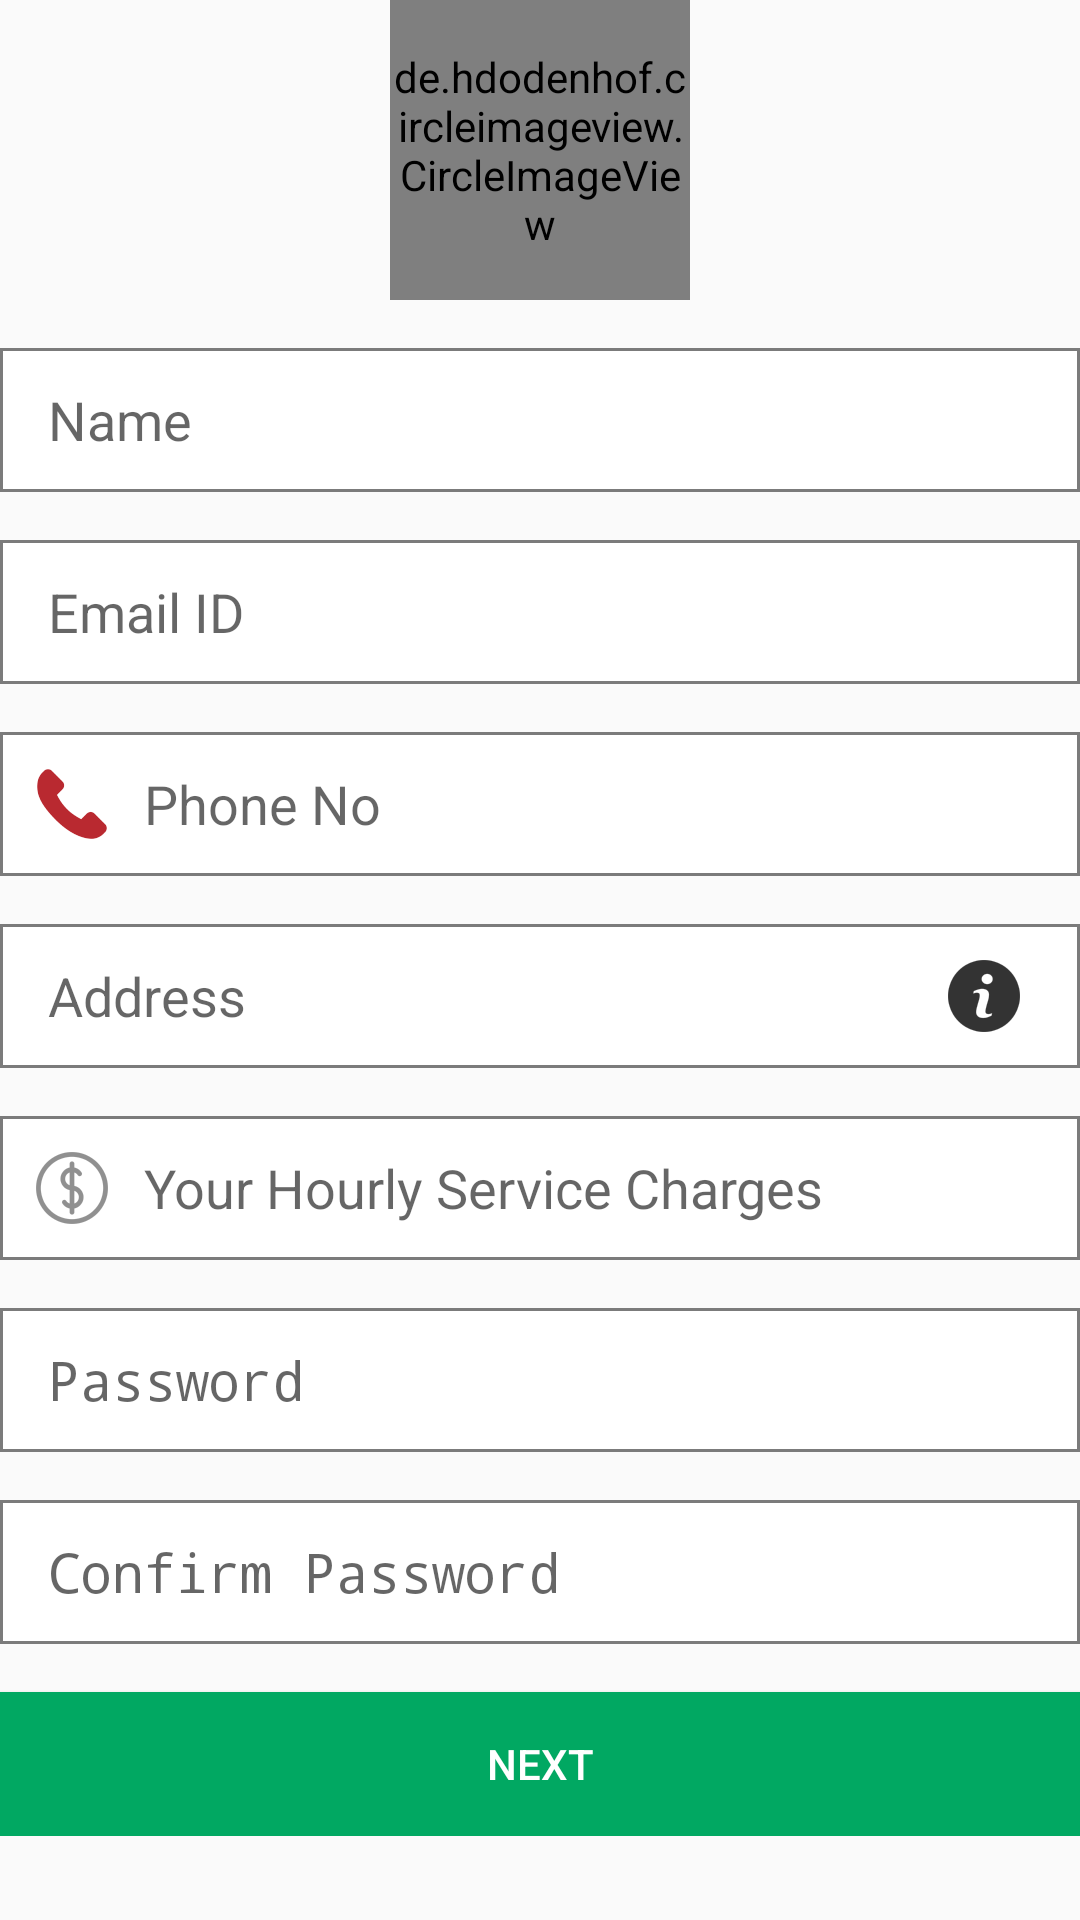

Locate icon controls on the screen. Image size 1080 x 1920, boxes as (x1, y1, x2, y2).
info: (948, 960, 1020, 1032)
